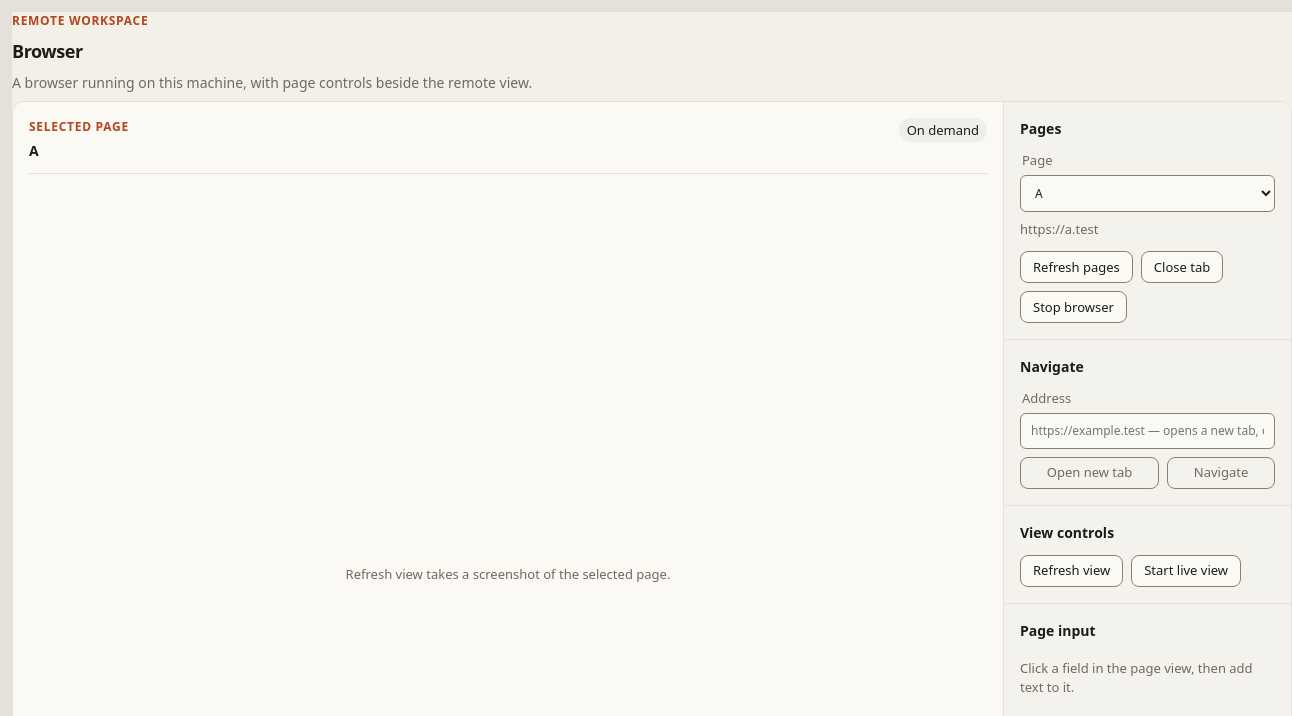
Scenario: BrowserPane › keeps Navigate and Open new tab disabled until there is an address
Expected: the button "Navigate" is disabled, [1167,456,1275,488]
Expected: the button "Open new tab" is disabled, [1020,456,1159,488]
Replace the text in the field labelled "Address" with "https://b.test" at (1148, 430), box [1020,412,1275,448]
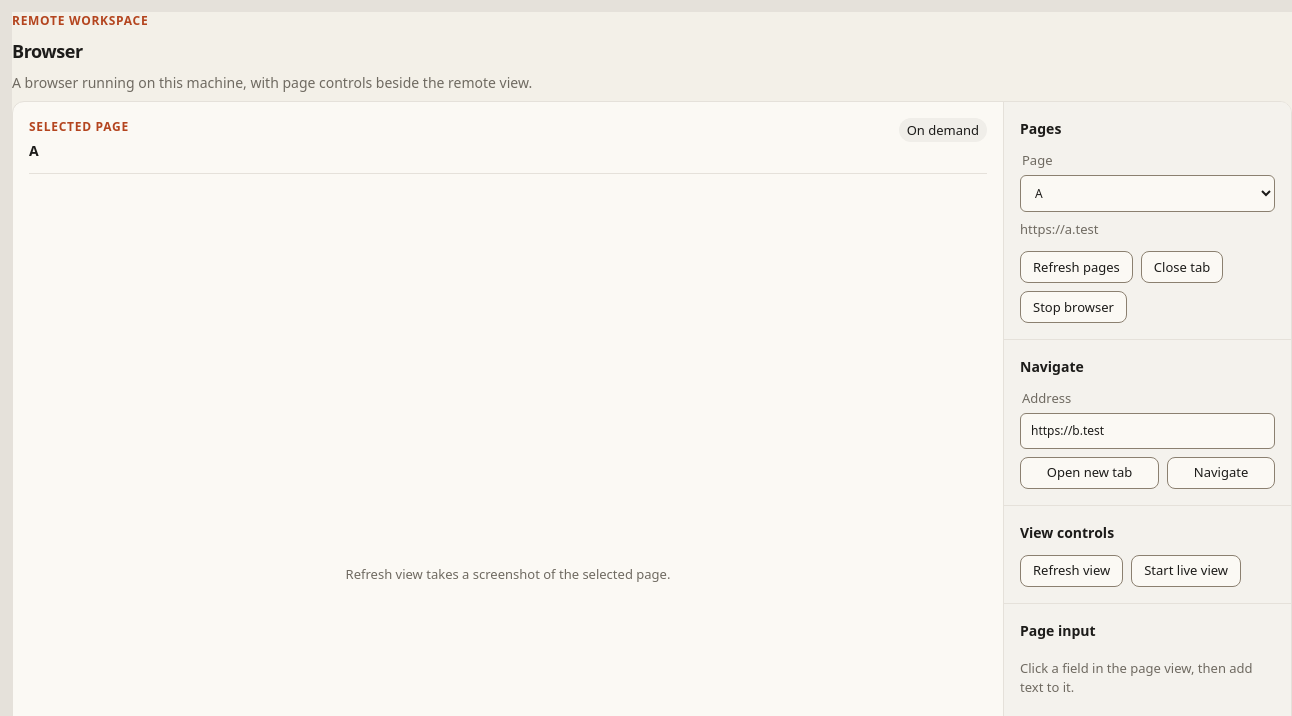
Result: the button "Navigate" is enabled at [1167,456,1275,488]
Result: the button "Open new tab" is enabled at [1020,456,1159,488]
